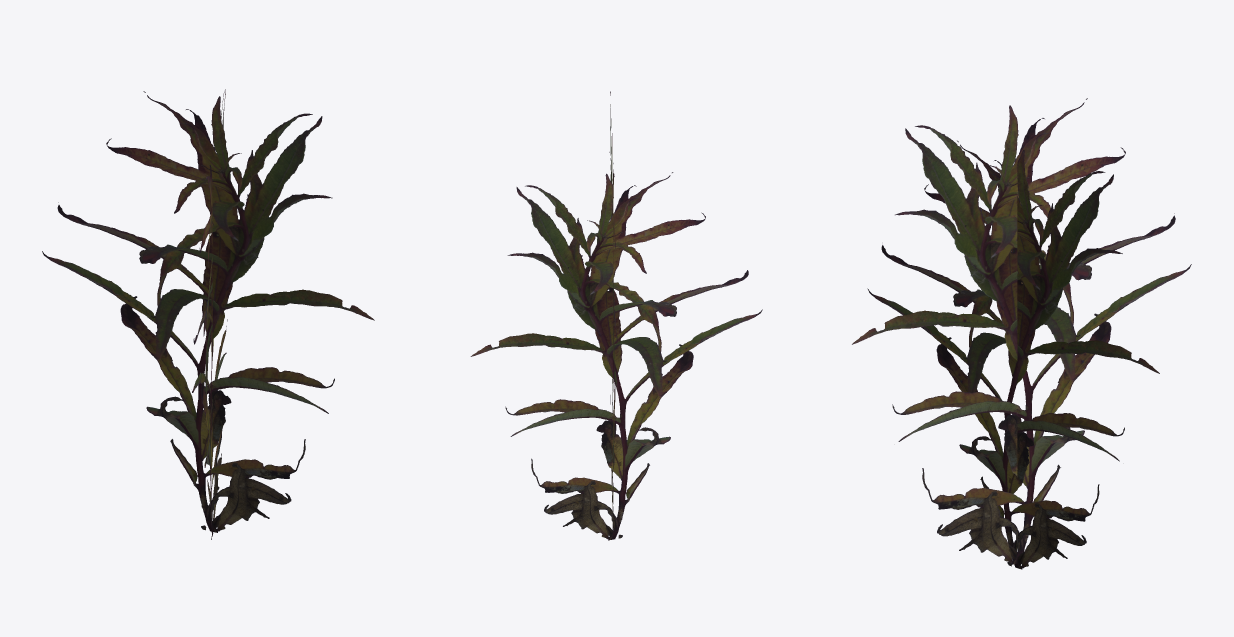
Rendered from kelp_like_foliage.glb.
The picture shows the model from 3 angles, left to right: view 1: azimuth 30°, elevation 25°; view 2: azimuth 150°, elevation 25°; view 3: azimuth 270°, elevation 25°; orthographic projection. The views are drawn at different scales.
Visible parts, largest first — view 1: Plane.085; view 2: Plane.085; view 3: Plane.085.
Part boxes in pixels (bbox=[...]): Plane.085: bbox=[42, 89, 374, 539]; Plane.085: bbox=[470, 91, 762, 540]; Plane.085: bbox=[852, 98, 1191, 569].
Size of the model in its own units: 0.995 by 2.12 by 1.55.
1 material, 1 textured.
